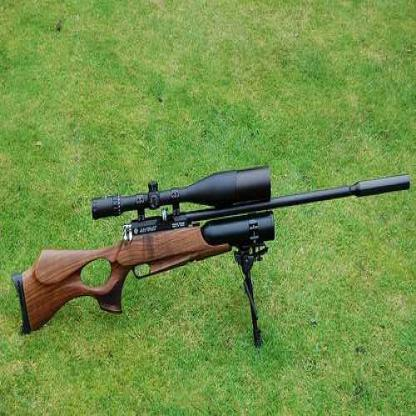Heavy Gun: (19, 164, 406, 330)
